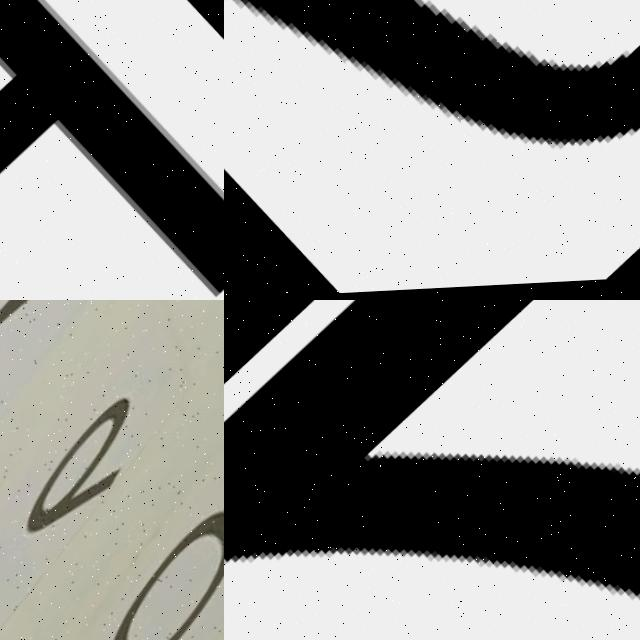0: (26, 471, 224, 640)
7: (224, 300, 640, 640)
9: (0, 364, 196, 590), (0, 300, 159, 409)
J: (224, 0, 640, 300)
R: (0, 0, 224, 300)
